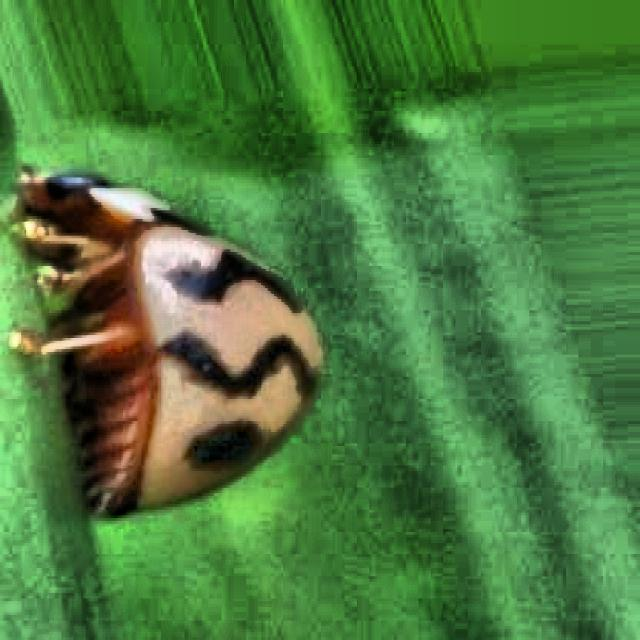Asian-Lady-beetle: (0, 102, 426, 640)
